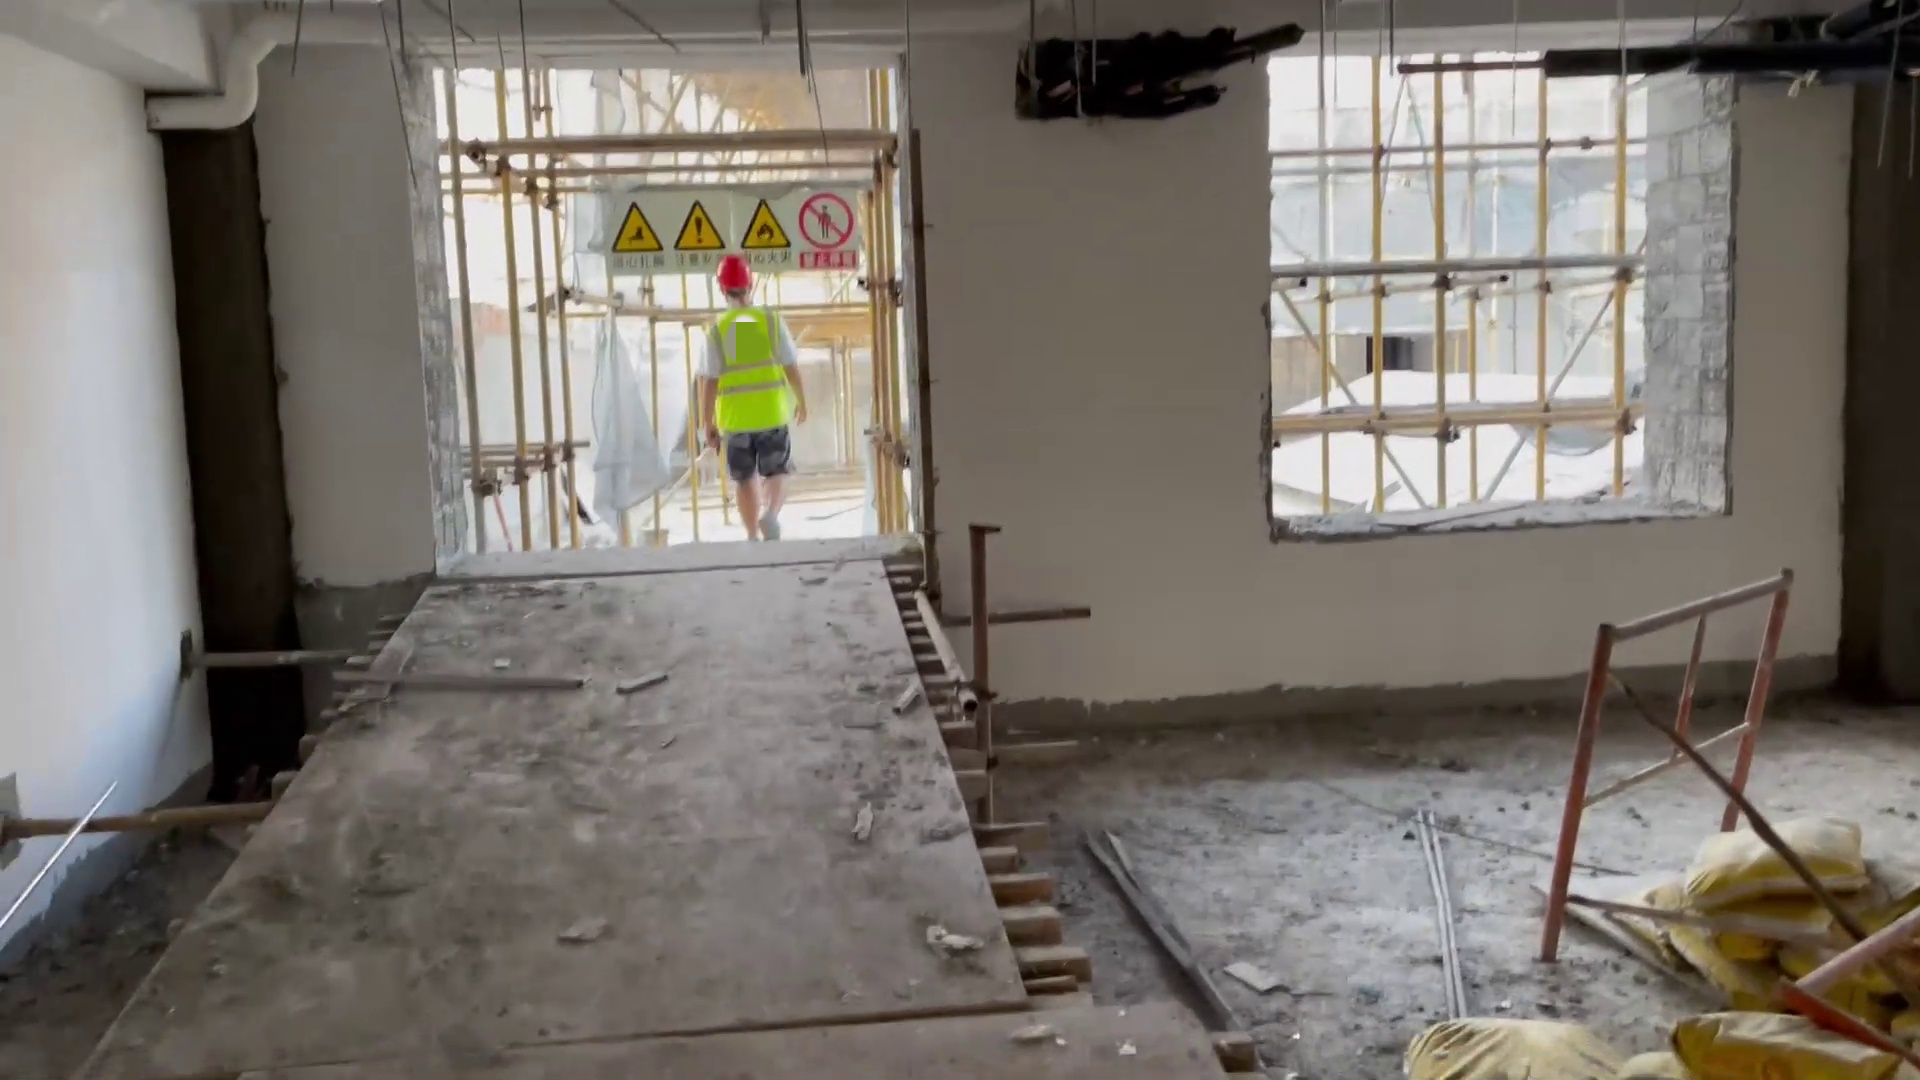helmet: (712, 257, 765, 292)
person: (677, 256, 815, 553)
vest: (710, 308, 797, 432)
